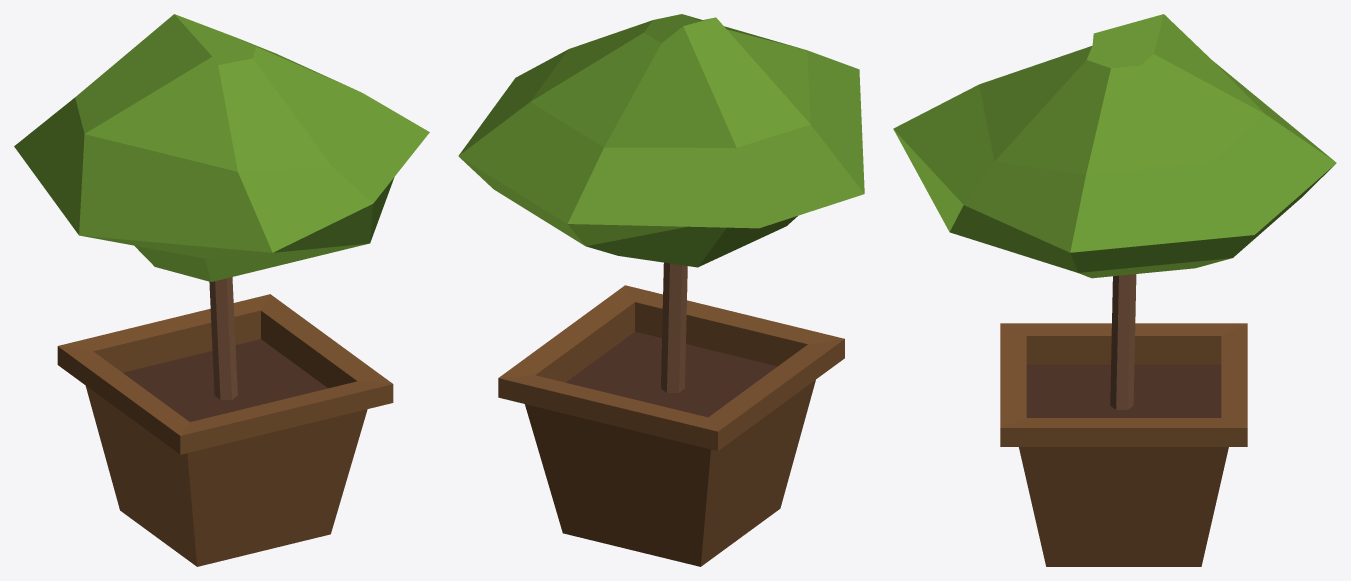
The model's file is pot1.fbx.
The picture shows the model from 3 angles, left to right: view 1: azimuth 30°, elevation 25°; view 2: azimuth 150°, elevation 25°; view 3: azimuth 270°, elevation 25°; orthographic projection. The views are drawn at different scales.
Parts seen in each view (by area): view 1: Cube.012; view 2: Cube.012; view 3: Cube.012.
Part boxes in pixels (x1,y1,x2,y2): Cube.012: [14, 14, 429, 566]; Cube.012: [458, 14, 864, 566]; Cube.012: [893, 14, 1336, 566].
Bounding box in the file's own units: 2.21 × 3.07 × 2.44.
